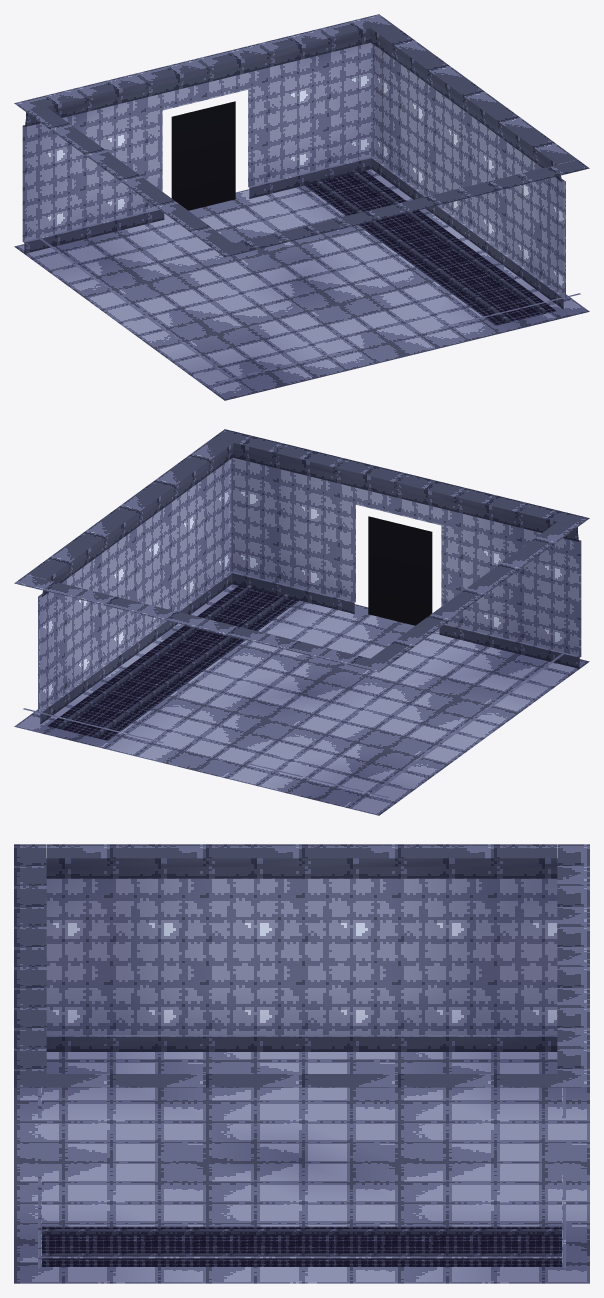
File: cyroom.subway.glb
3 views of the same model, one above another, from view 1: azimuth 30°, elevation 25°; view 2: azimuth 150°, elevation 25°; view 3: azimuth 270°, elevation 25° (orthographic). The views are drawn at different scales.
Visible parts, largest first — view 1: kit_shell_walls, kit_shell_floor, kit_card_lights, kit_trim; view 2: kit_shell_walls, kit_shell_floor, kit_card_lights, kit_trim; view 3: kit_shell_walls, kit_shell_floor, kit_trim.
Boxes of the visible parts, bbox=[...] form: kit_shell_walls: bbox=[14, 14, 589, 383]; kit_shell_floor: bbox=[14, 169, 589, 400]; kit_card_lights: bbox=[171, 101, 235, 210]; kit_trim: bbox=[314, 170, 545, 322]; kit_shell_walls: bbox=[14, 429, 589, 798]; kit_shell_floor: bbox=[14, 584, 589, 815]; kit_card_lights: bbox=[368, 516, 432, 625]; kit_trim: bbox=[58, 585, 289, 737]; kit_shell_walls: bbox=[14, 844, 589, 1268]; kit_shell_floor: bbox=[14, 1052, 589, 1283]; kit_trim: bbox=[42, 1229, 561, 1259].
Size of the model in its own units: 12 by 4.5 by 12.
Materials: 8 (8 with a texture image).
